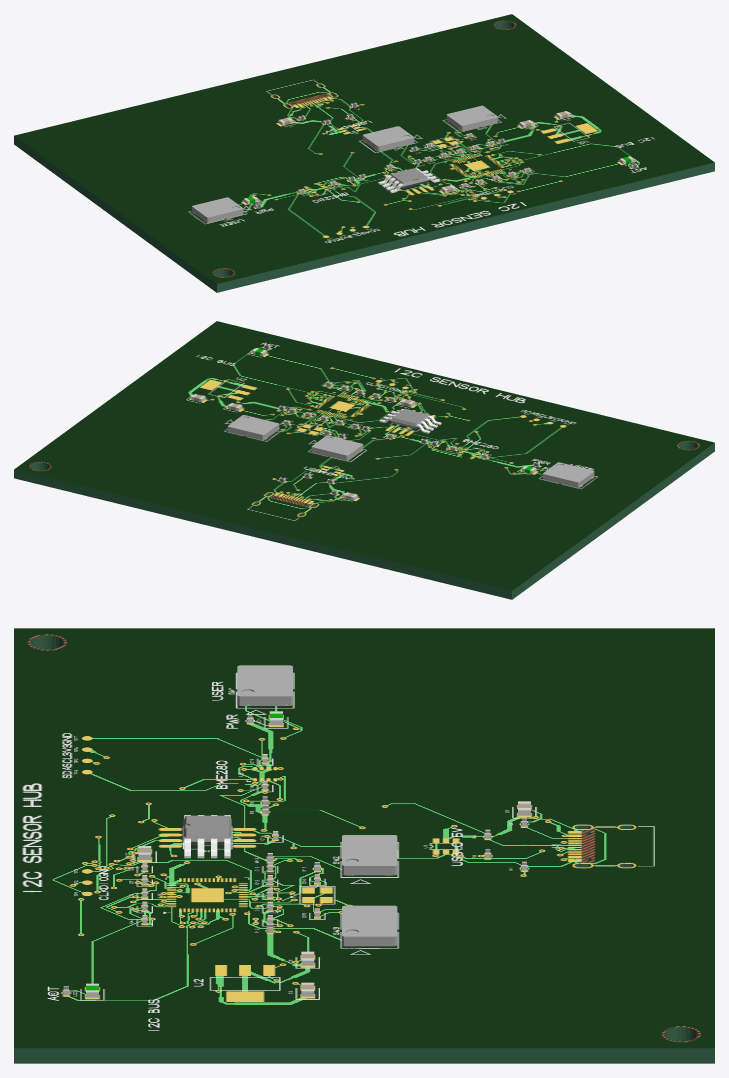
3 renders of one model, top to bottom at view 1: azimuth 30°, elevation 25°; view 2: azimuth 150°, elevation 25°; view 3: azimuth 270°, elevation 25°, orthographic. The views are drawn at different scales.
Parts seen in each view (by area): view 1: Box0, SW2, SW3, SW1, U4; view 2: Box0, SW2, SW3, SW1, U4; view 3: Box0, SW3, SW2, SW1, U4.
Boxes of the visible parts, x1,y1,x2,y2 form: Box0: (14, 14, 714, 292); SW2: (362, 126, 414, 151); SW3: (446, 105, 498, 131); SW1: (192, 197, 243, 222); U4: (378, 168, 440, 193); Box0: (14, 321, 714, 599); SW2: (311, 435, 363, 460); SW3: (227, 415, 279, 440); SW1: (543, 462, 594, 487); U4: (379, 408, 441, 433); Box0: (14, 628, 714, 1063); SW3: (342, 905, 397, 946); SW2: (342, 835, 397, 875); SW1: (237, 665, 292, 705); U4: (183, 815, 231, 858).
Bounding box in the file's own units: 95 × 2.88 × 67.
10 materials, 2 textured.
